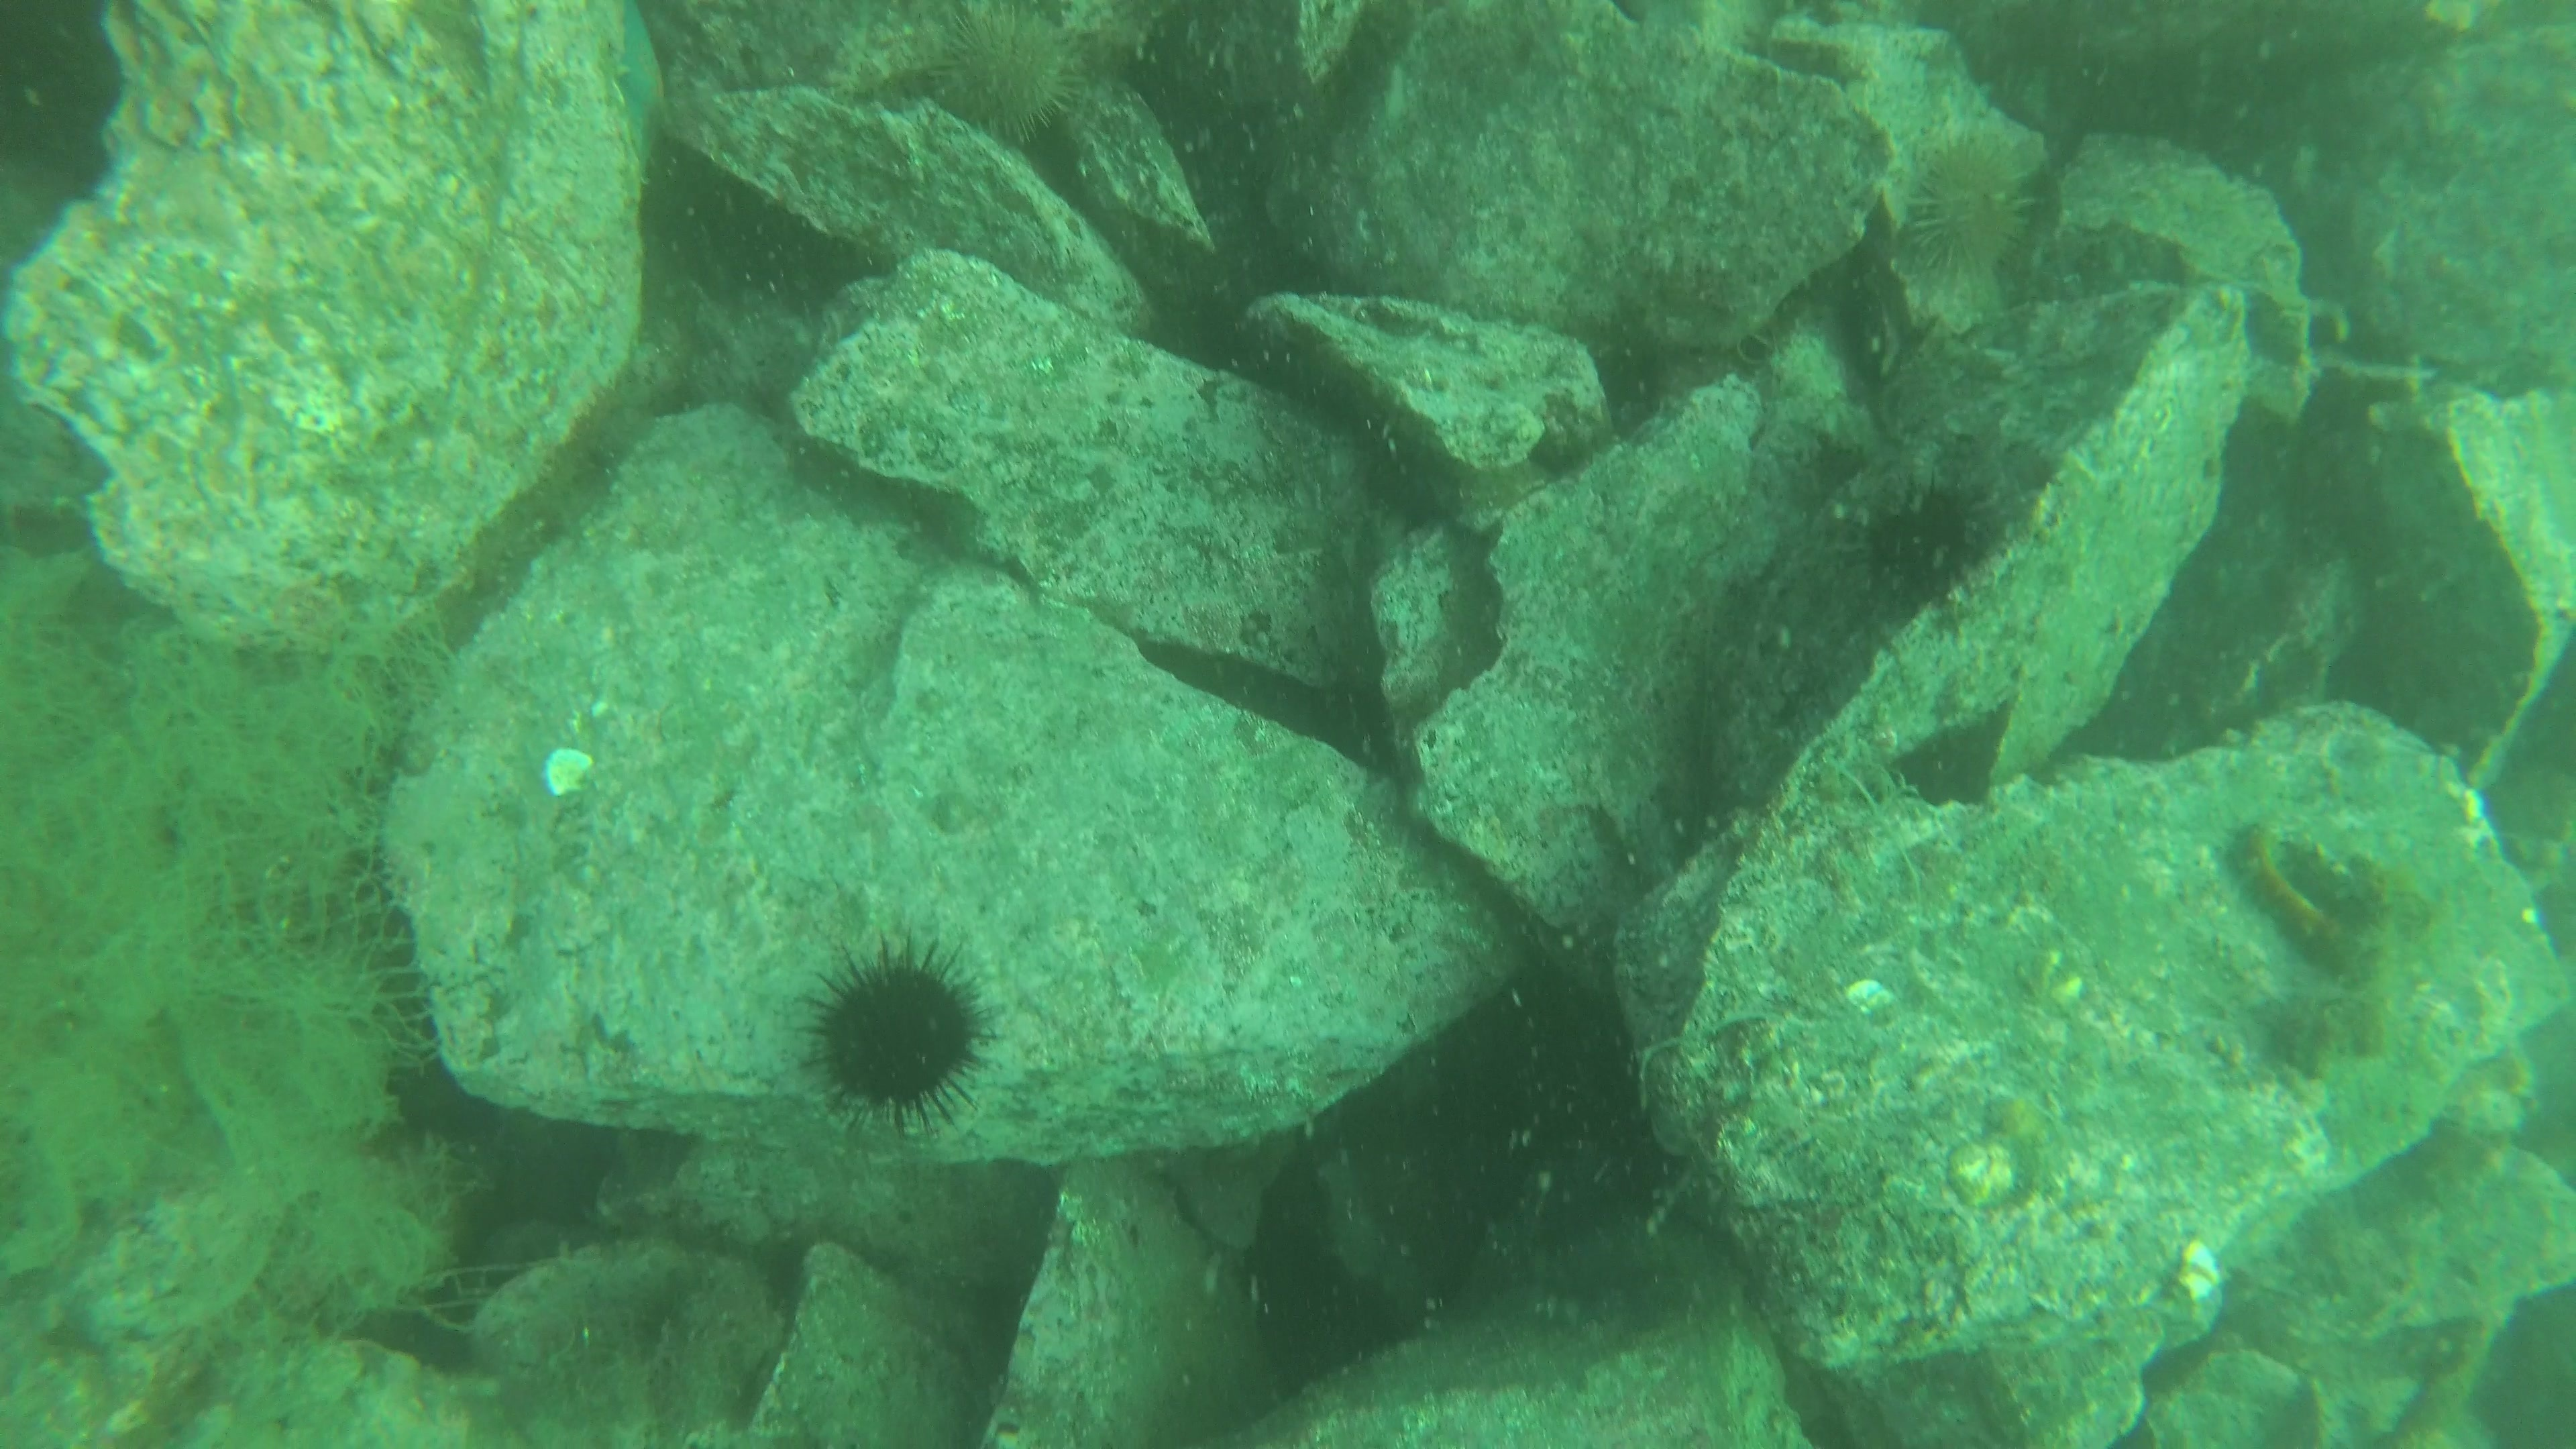echinus: (798, 934, 998, 1127), (915, 4, 1093, 150), (1893, 126, 2045, 292), (1851, 472, 2003, 605)
starfish: (600, 0, 679, 173)
